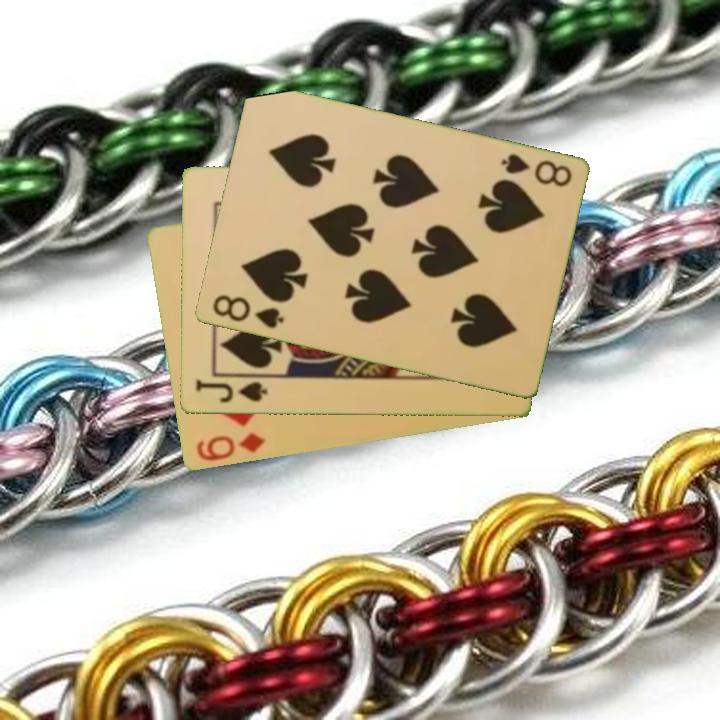6d: (192, 429, 268, 465)
8s: (208, 291, 286, 332), (497, 150, 574, 190)
Js: (192, 376, 270, 406)
